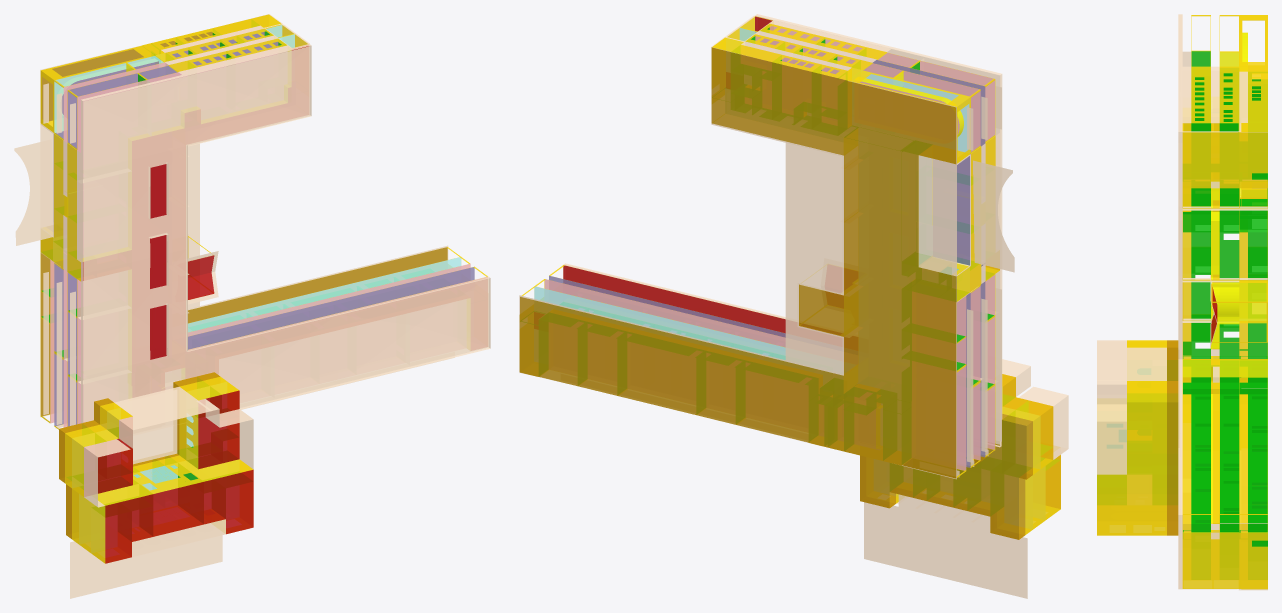
The model's file is hello-world-2021-02-01.gltf.
3 renders of one model, left to right at view 1: azimuth 30°, elevation 25°; view 2: azimuth 150°, elevation 25°; view 3: azimuth 270°, elevation 25°, orthographic. The views are drawn at different scales.
Bounding box in the file's own units: 72.84 × 76.19 × 22.86.
